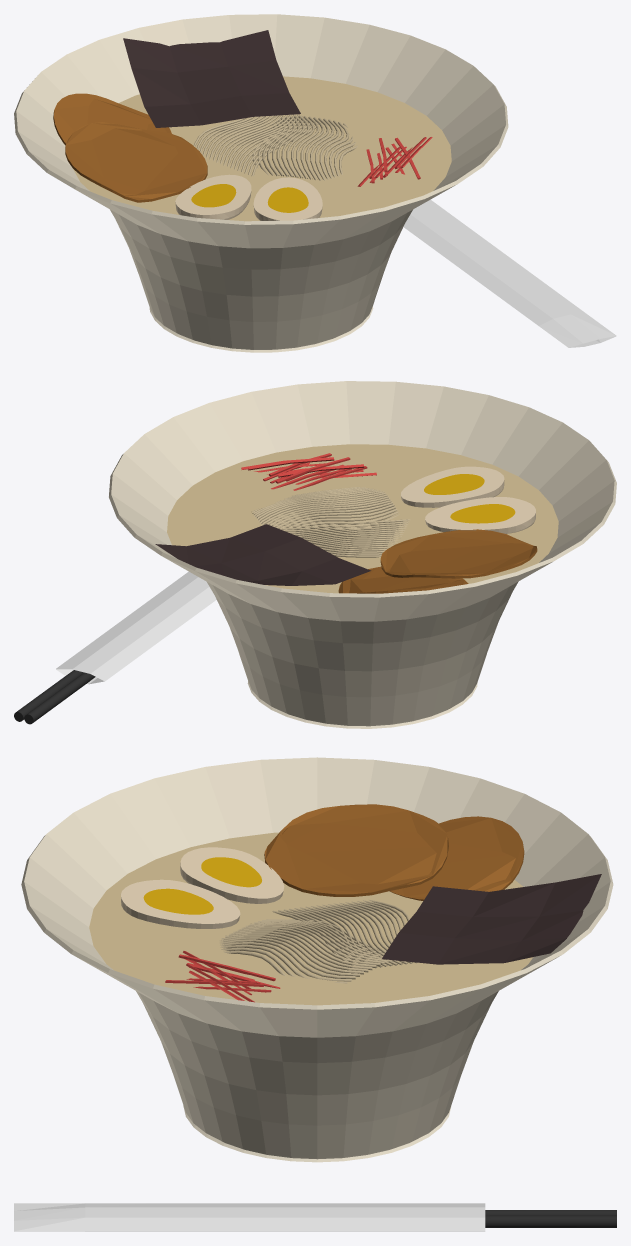
The model's file is ramen.gltf.
3 renders of one model, top to bottom at view 1: azimuth 30°, elevation 25°; view 2: azimuth 150°, elevation 25°; view 3: azimuth 270°, elevation 25°, orthographic. The views are drawn at different scales.
Visible parts, largest first — view 1: Cylinder, soup, nori, Plane.002, Cylinder.002, men, men.001, Cylinder.001, Sphere.002, Sphere, Sphere.001, Sphere.003; view 2: Cylinder, soup, nori, Plane.002, Cylinder.002, men, men.001, Sphere.002, Sphere, Cylinder.001, Sphere.003, Cube (+5 smaller); view 3: Cylinder, soup, Plane.002, Cylinder.002, nori, men, Cylinder.001, men.001, Sphere, Sphere.002, Cylinder.004, Sphere.001 (+3 smaller).
Boxes of the visible parts, x1=… form: Cylinder: x1=14, y1=14, x2=508, y2=352; soup: x1=73, y1=76, x2=451, y2=221; nori: x1=123, y1=30, x2=300, y2=127; Plane.002: x1=403, y1=199, x2=616, y2=347; Cylinder.002: x1=65, y1=122, x2=207, y2=202; men: x1=252, y1=115, x2=357, y2=180; men.001: x1=193, y1=114, x2=318, y2=176; Cylinder.001: x1=53, y1=93, x2=171, y2=145; Sphere.002: x1=175, y1=174, x2=251, y2=219; Sphere: x1=253, y1=177, x2=322, y2=220; Sphere.001: x1=267, y1=187, x2=308, y2=212; Sphere.003: x1=191, y1=184, x2=236, y2=207; Cylinder: x1=109, y1=381, x2=616, y2=728; soup: x1=167, y1=444, x2=558, y2=593; nori: x1=155, y1=524, x2=371, y2=585; Plane.002: x1=56, y1=571, x2=216, y2=681; Cylinder.002: x1=380, y1=529, x2=537, y2=578; men: x1=252, y1=487, x2=399, y2=531; men.001: x1=268, y1=512, x2=410, y2=557; Sphere.002: x1=425, y1=497, x2=536, y2=533; Sphere: x1=400, y1=466, x2=504, y2=507; Cylinder.001: x1=338, y1=566, x2=468, y2=593; Sphere.003: x1=450, y1=504, x2=515, y2=523; Cube: x1=271, y1=457, x2=367, y2=490; Cylinder: x1=21, y1=757, x2=613, y2=1162; soup: x1=89, y1=832, x2=533, y2=1005; Plane.002: x1=14, y1=1203, x2=485, y2=1231; Cylinder.002: x1=264, y1=804, x2=448, y2=896; nori: x1=382, y1=874, x2=601, y2=964; men: x1=219, y1=919, x2=392, y2=983; Cylinder.001: x1=390, y1=816, x2=524, y2=900; men.001: x1=272, y1=899, x2=416, y2=968; Sphere: x1=120, y1=879, x2=240, y2=928; Sphere.002: x1=180, y1=847, x2=284, y2=903; Cylinder.004: x1=485, y1=1215, x2=616, y2=1227; Sphere.001: x1=143, y1=888, x2=213, y2=914.
Size of what is drawn, in the model's own units: 4.63 by 1.88 by 4.57.
